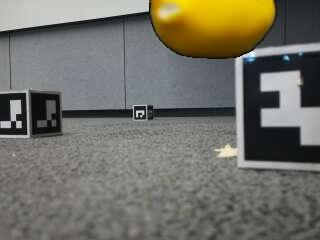lemon: (151, 0, 275, 58)
